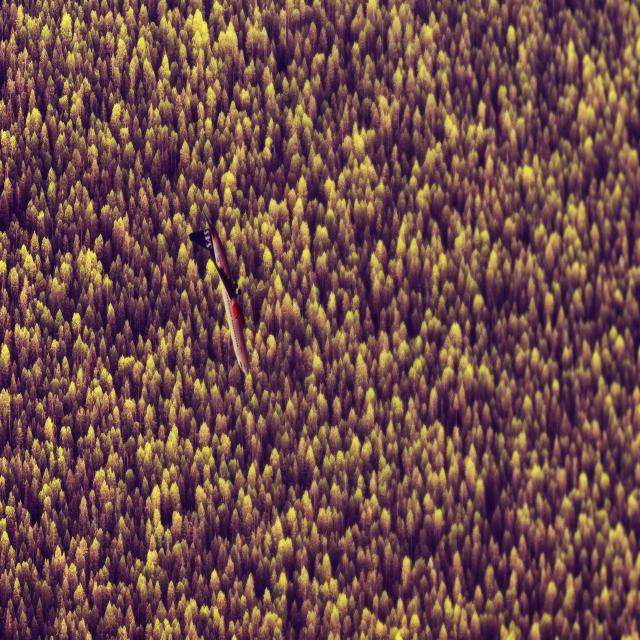airplane: (188, 208, 249, 377)
